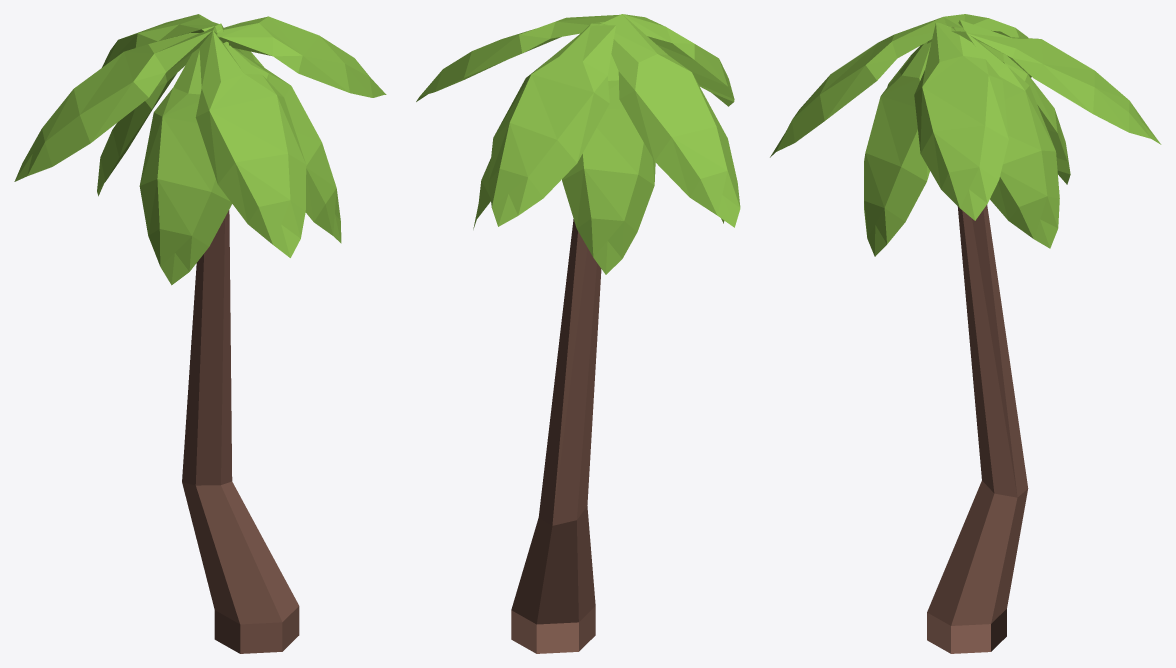
File: palmtree2.obj
3 renders of one model, left to right at view 1: azimuth 30°, elevation 25°; view 2: azimuth 150°, elevation 25°; view 3: azimuth 270°, elevation 25°, orthographic. The views are drawn at different scales.
Parts seen in each view (by area): view 1: palm_tree2; view 2: palm_tree2; view 3: palm_tree2.
Part boxes in pixels (<box>): palm_tree2: <box>14,14,386,653</box>; palm_tree2: <box>416,14,740,653</box>; palm_tree2: <box>770,14,1161,653</box>.
Bounding box in the file's own units: 0.2346 × 0.4078 × 0.2435.
